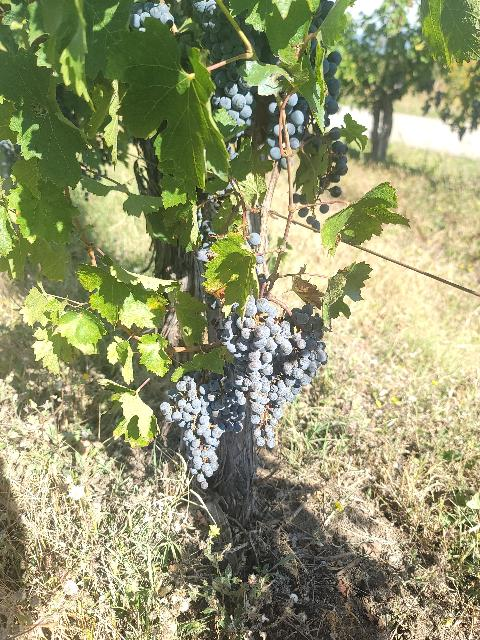grapes: (258, 305, 328, 408), (220, 295, 292, 374), (184, 372, 225, 489), (160, 375, 206, 429), (211, 382, 246, 432)
